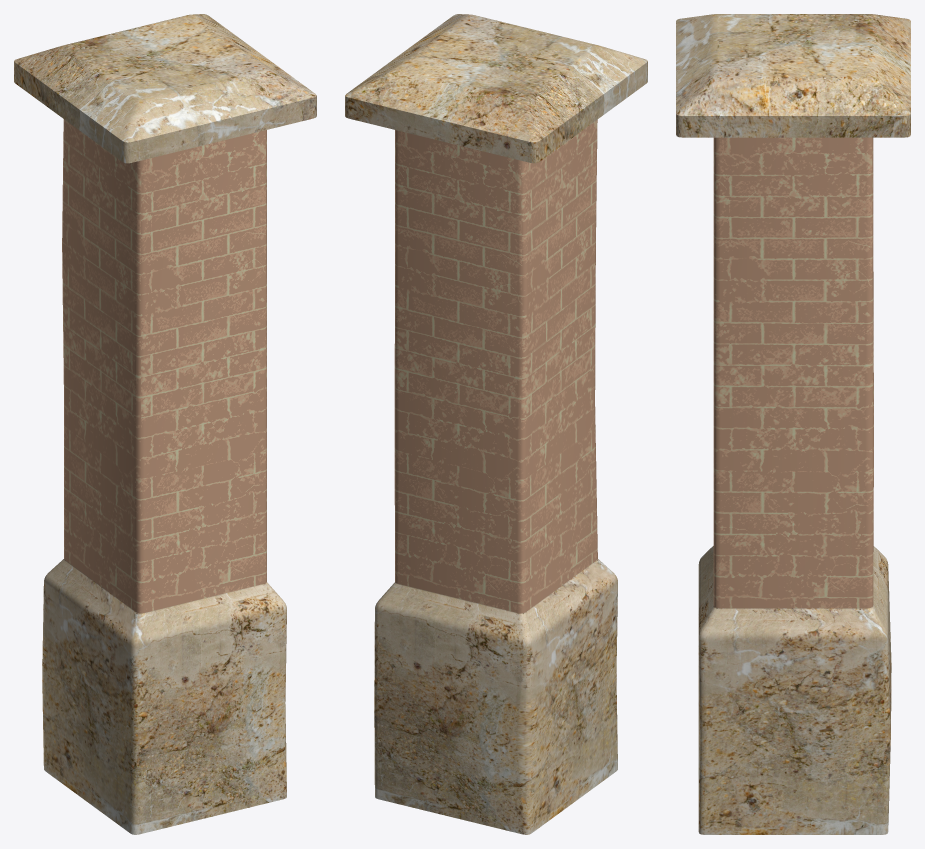
The model's file is SM_Wall_Pole_01.FBX.
The picture shows the model from 3 angles, left to right: view 1: azimuth 30°, elevation 25°; view 2: azimuth 150°, elevation 25°; view 3: azimuth 270°, elevation 25°; orthographic projection. The views are drawn at different scales.
Visible parts, largest first — view 1: SM_Wall_Pole_01; view 2: SM_Wall_Pole_01; view 3: SM_Wall_Pole_01.
Part boxes in pixels (<box>): SM_Wall_Pole_01: <box>14,14,316,834</box>; SM_Wall_Pole_01: <box>345,14,647,834</box>; SM_Wall_Pole_01: <box>676,14,910,834</box>.
Size of the model in its own units: 1.6 by 5.73 by 1.63.
2 materials, 2 textured.
